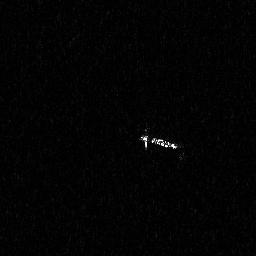ship: (137, 121, 180, 153)
